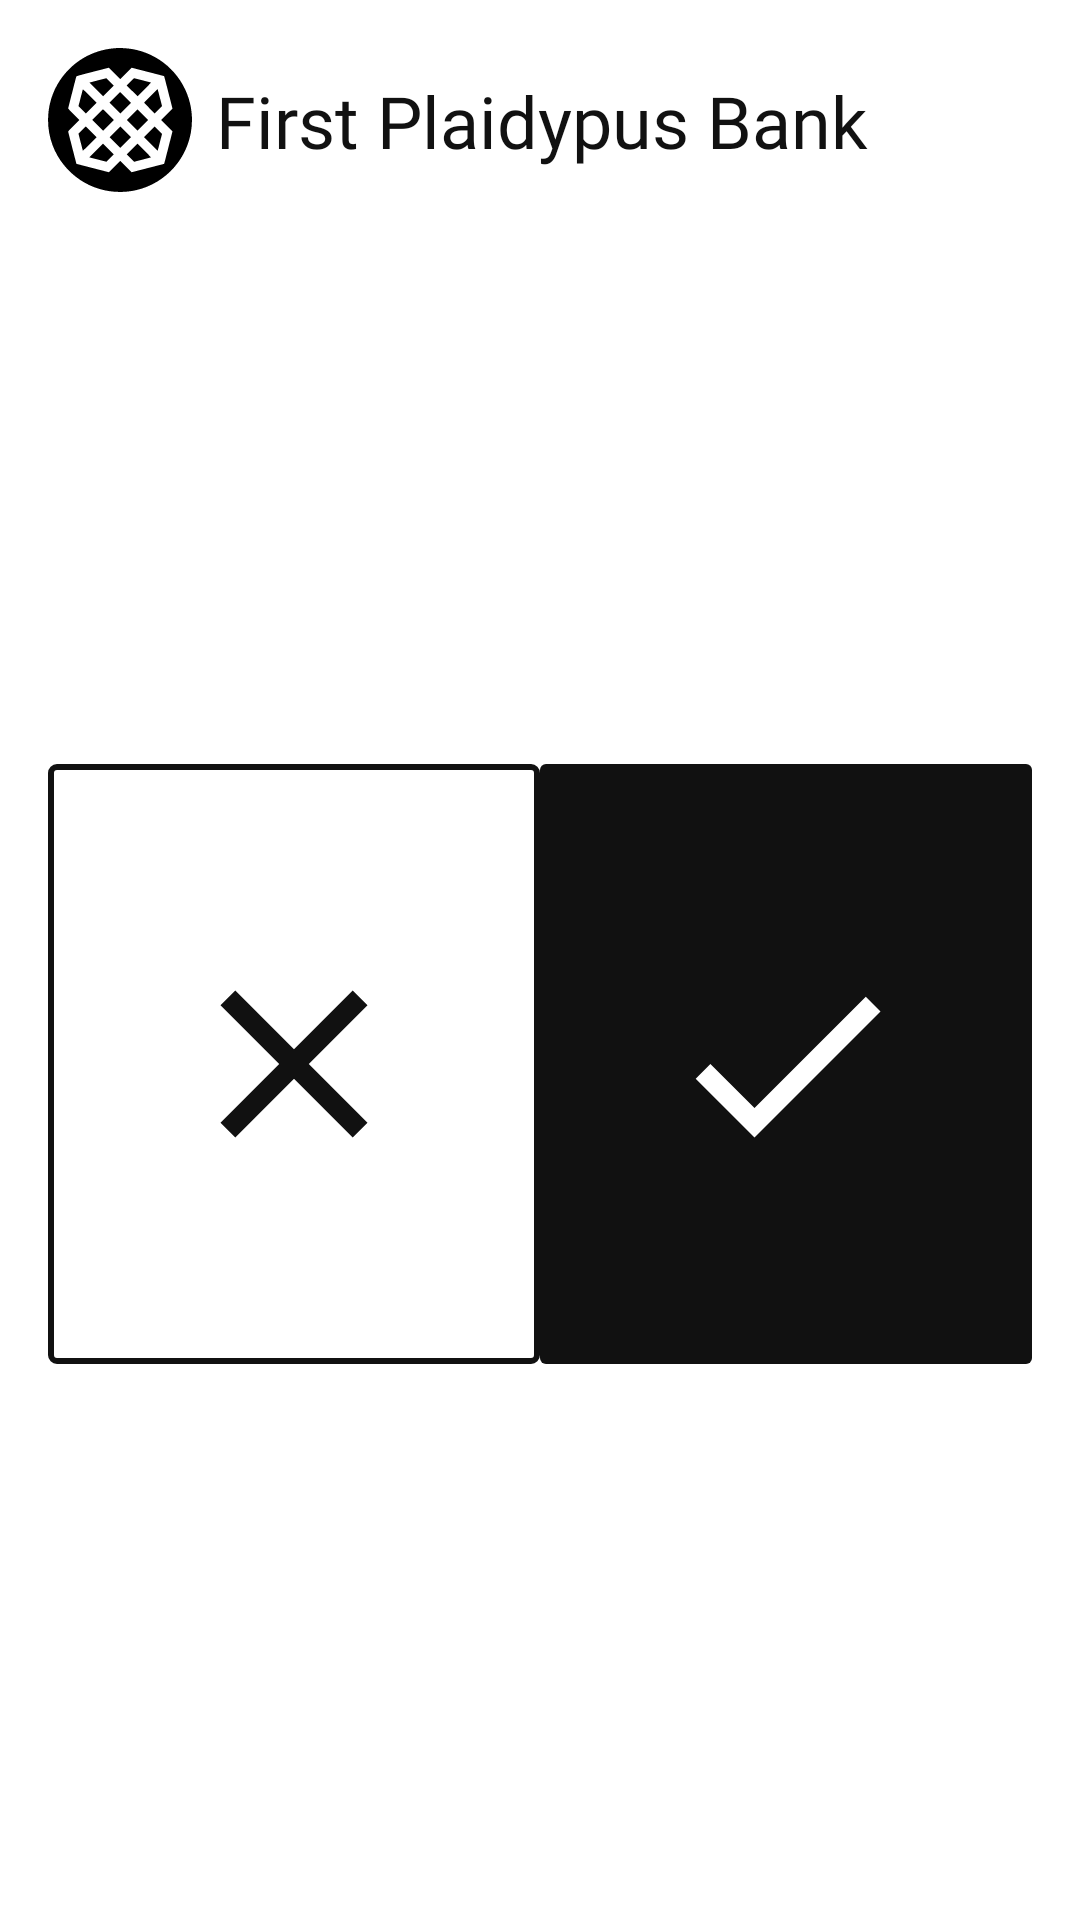

Icons on this 1080 x 1920 Android screen, each with its box as [left=x1, top=y1, right=x2, bottom=y2]:
done: [left=696, top=997, right=881, bottom=1138]
